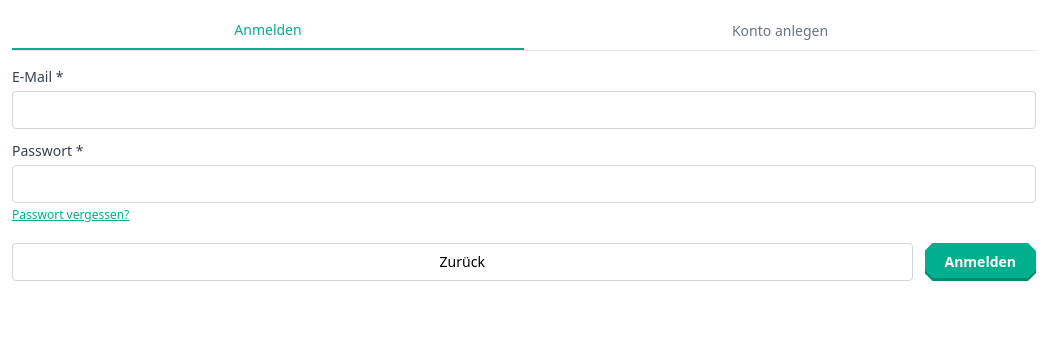
Test: logging in › shows the server message when the login is refused
Type "kundin@example.org" into the field labelled "E-Mail *" at (524, 110), box x1=12 y1=91 x2=1036 y2=129
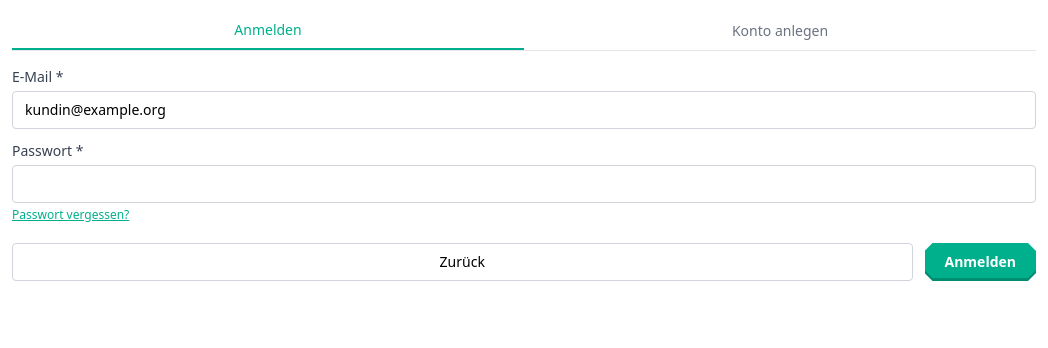
Type "falsch" into the password field labelled "Passwort *" at (524, 184), box x1=12 y1=165 x2=1036 y2=203
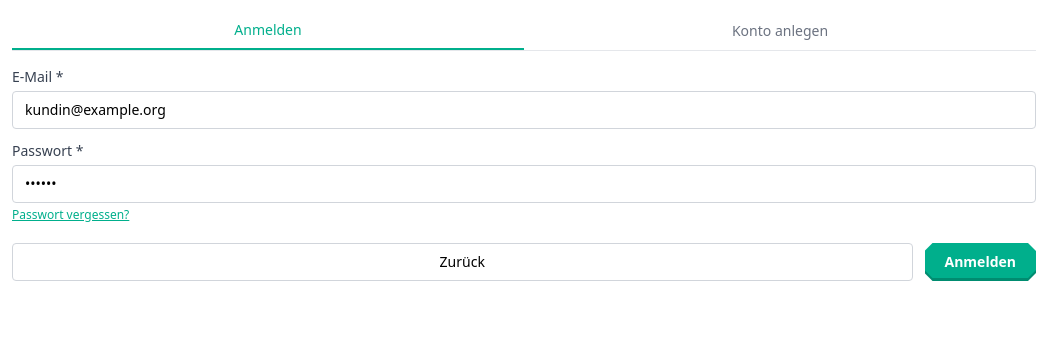
Submit the panel
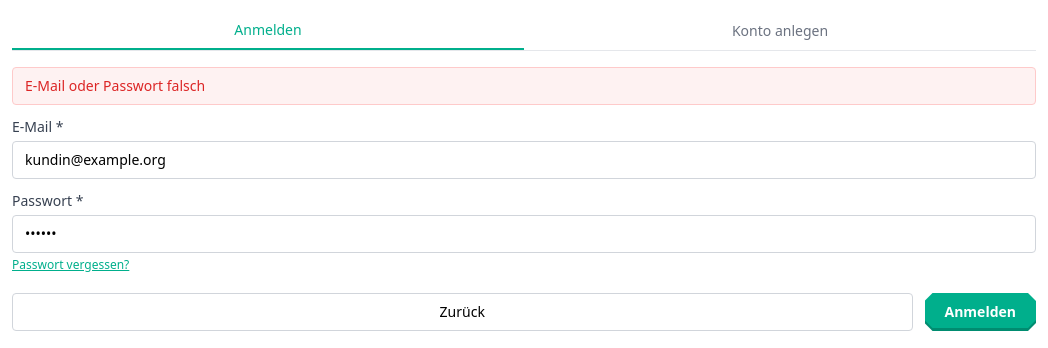
Check: the message "E-Mail oder Passwort falsch" is shown, box x1=12 y1=67 x2=1036 y2=105
